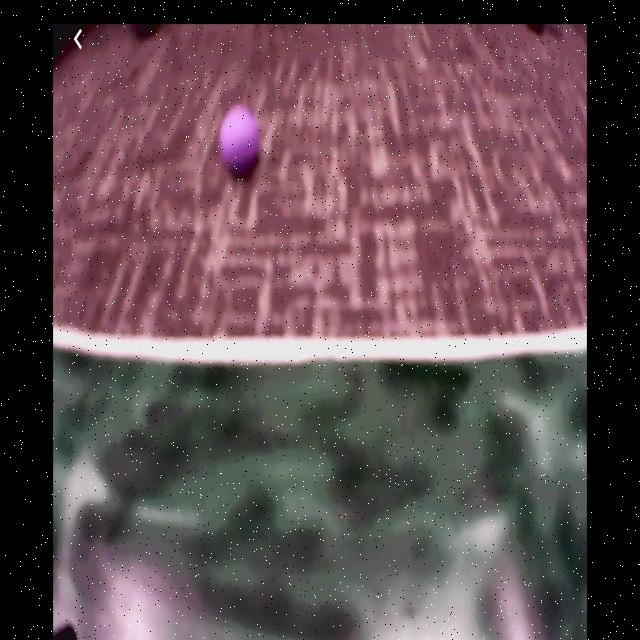ball: (221, 108, 261, 176)
